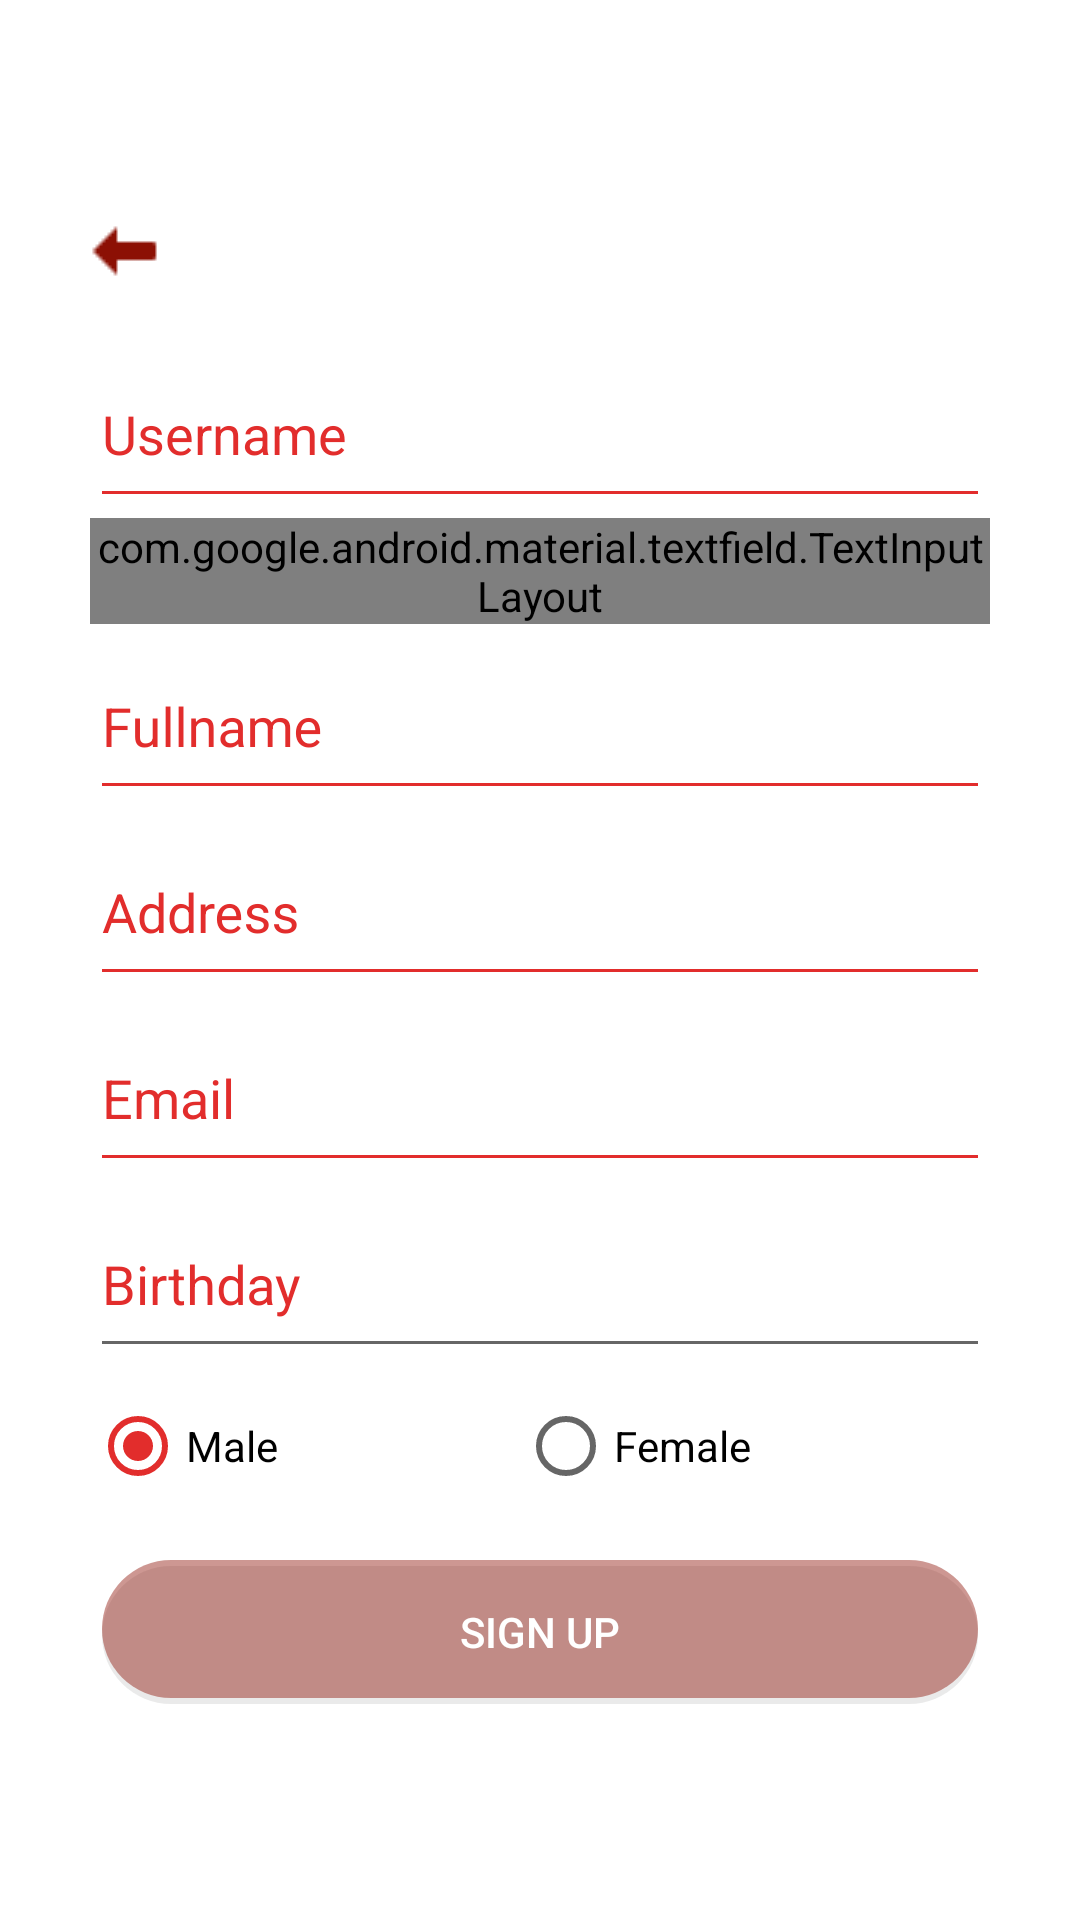

Where to tap for icons on this 1080px x 1920px app screen, as (x=x, y=y):
back: (x=124, y=251)
